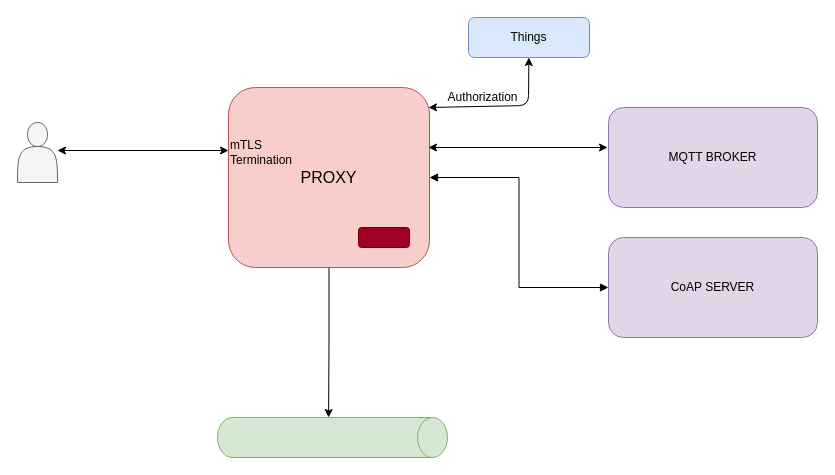
This 835x475 diagram has some shape labels left out. The shapes that lost their labels are listed below. From the top down, each one's box as (x1, y1, x2, y2) in pixels, then its label:
(358, 226, 410, 248): mProxy
(216, 416, 448, 458): NATS
